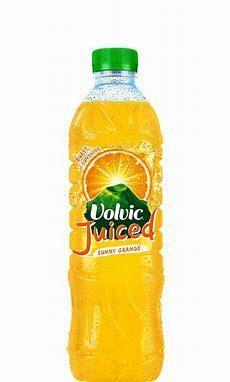bottle: (68, 42, 166, 379)
